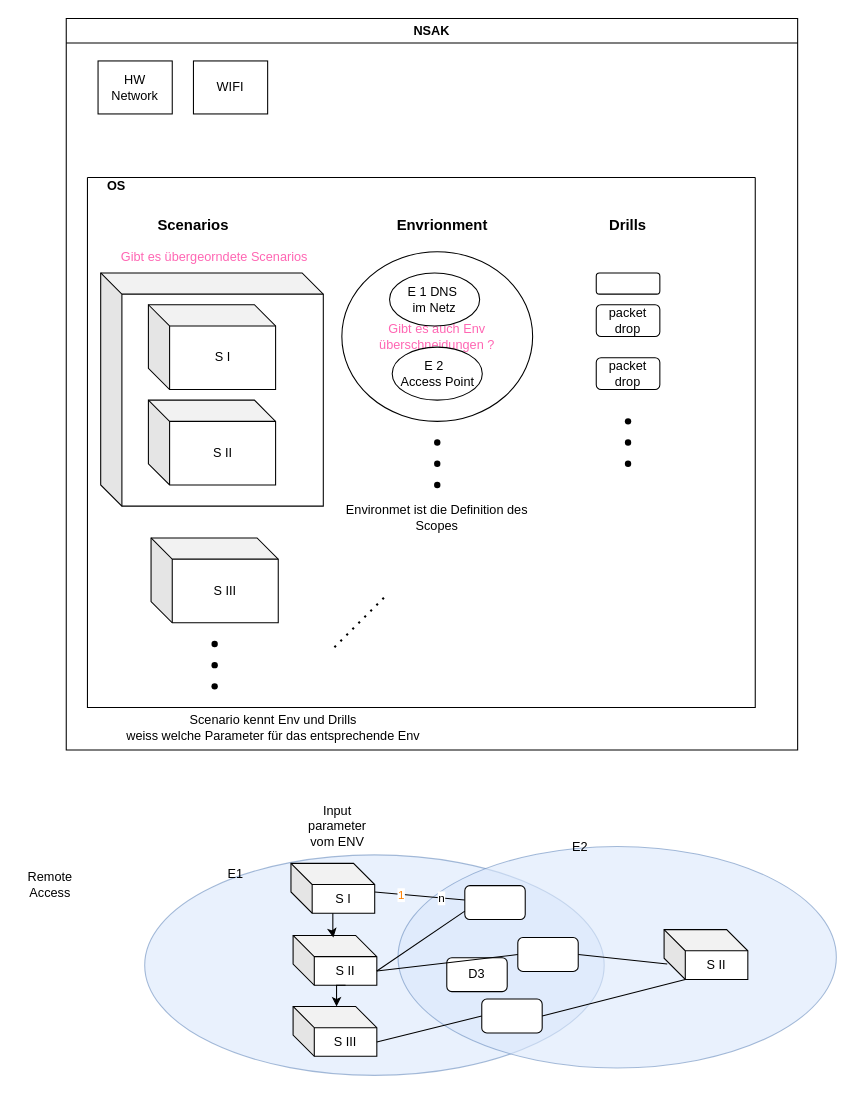
Image size: 854x1094. Some labels were removed from this diagram. The shapes that lost their labels are listed below. From the top down, each one's centre as x and y in pixels, then its label:
pixel 627 283: sniffing
pixel 494 902: D1
pixel 547 954: D2
pixel 511 1015: Dn
